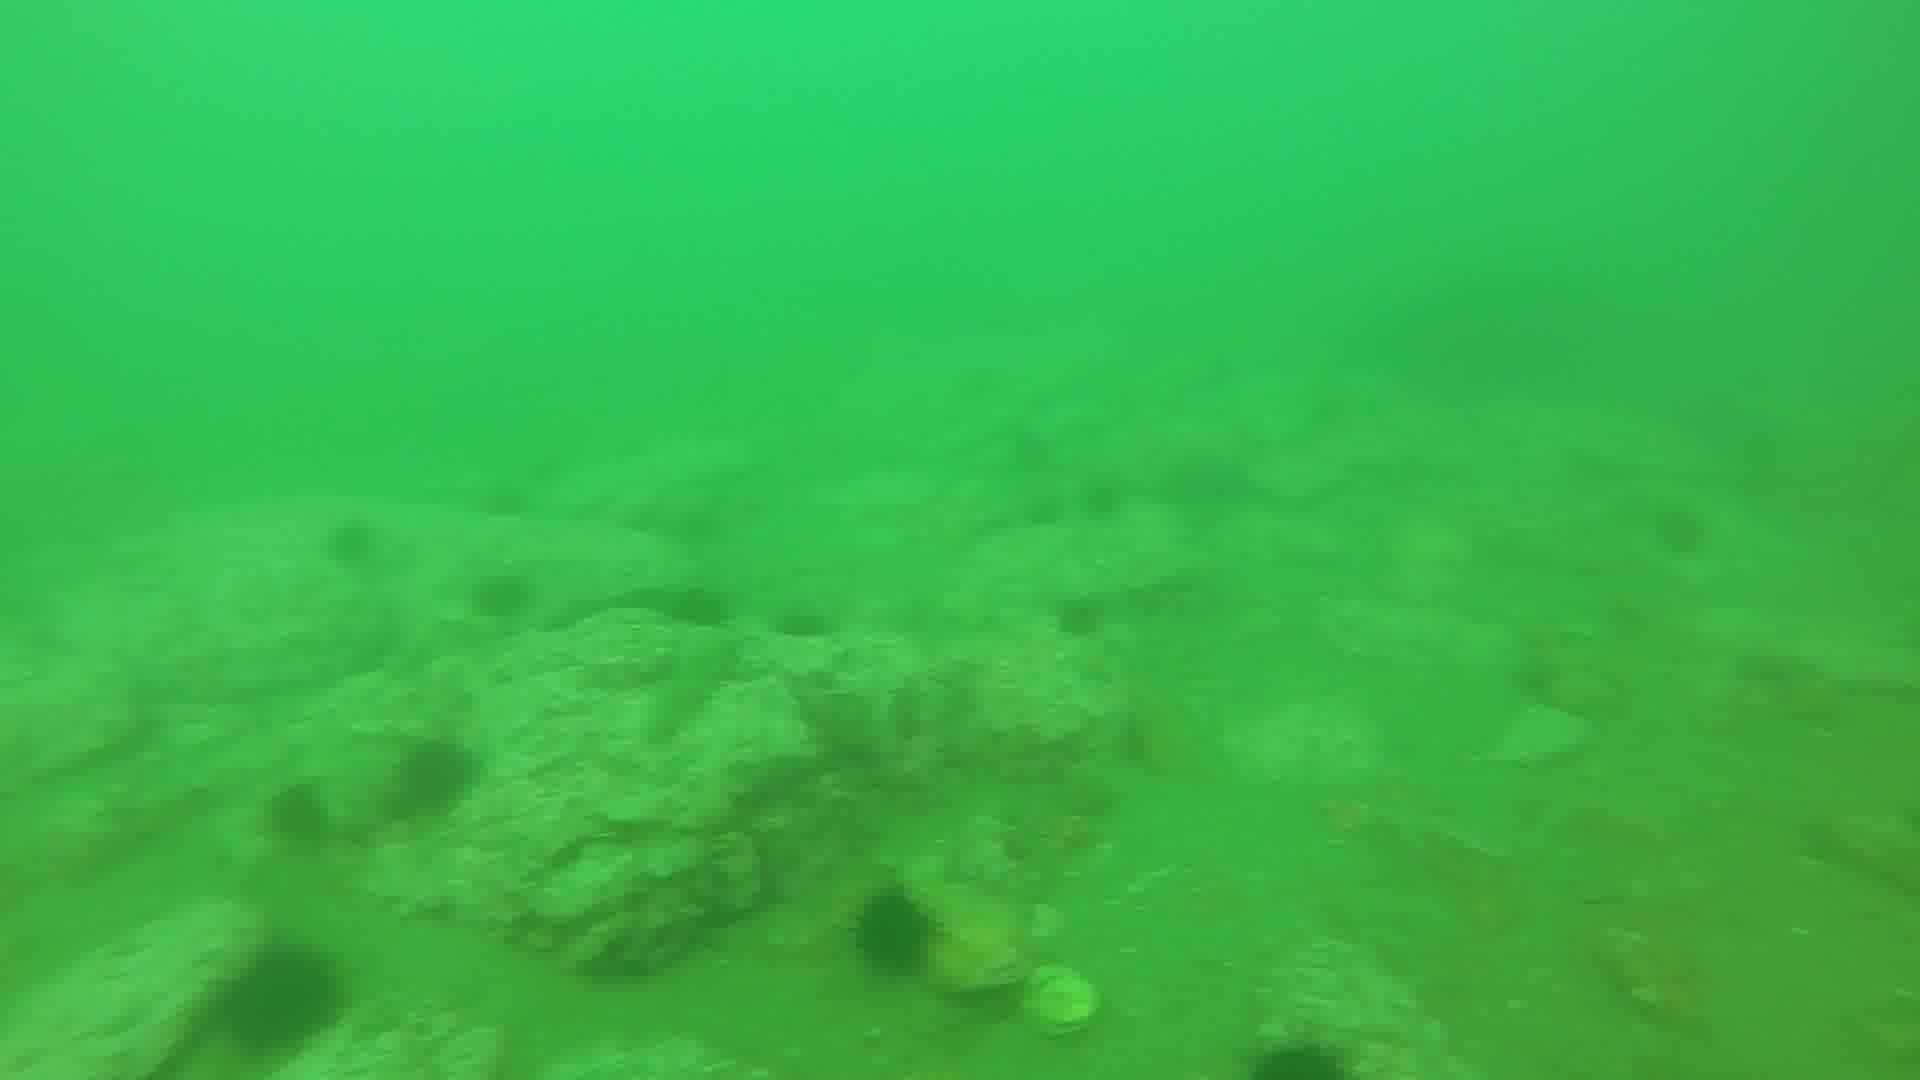echinus: (215, 940, 349, 1059), (847, 885, 942, 980), (390, 735, 483, 819), (258, 778, 336, 852), (1246, 1030, 1353, 1080), (465, 566, 538, 626), (1646, 498, 1714, 562), (658, 578, 735, 634), (319, 513, 385, 572), (1048, 592, 1110, 645), (771, 599, 837, 646)
